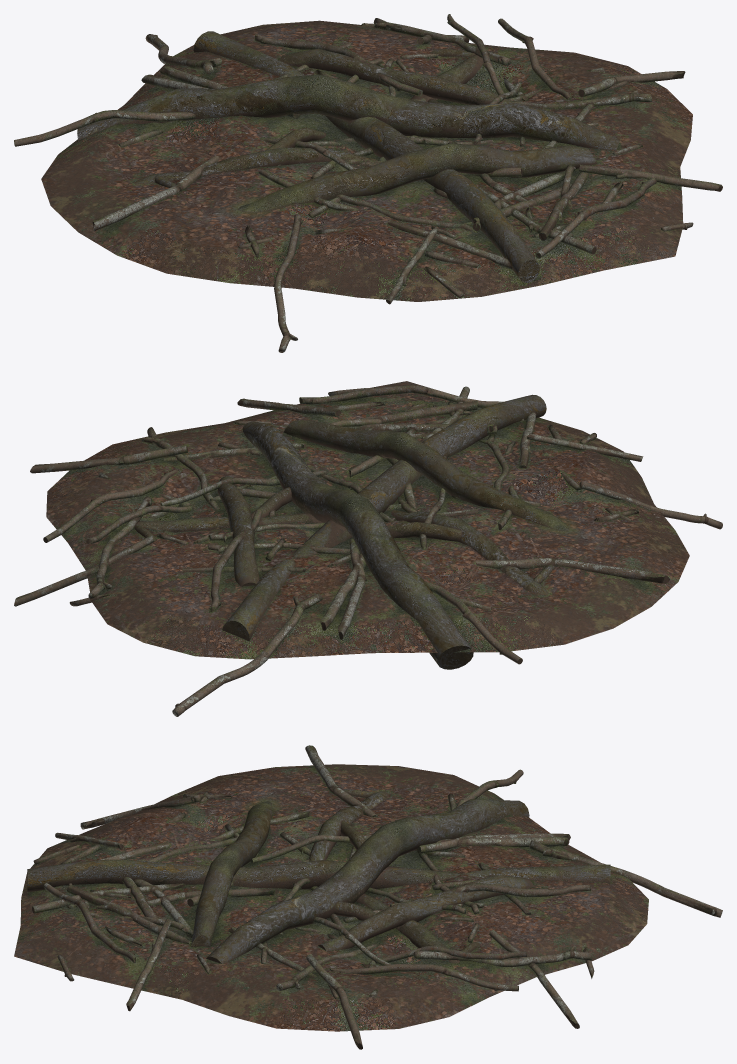
The model's file is SM_BranchEmbankment.fbx.
3 renders of one model, top to bottom at view 1: azimuth 30°, elevation 25°; view 2: azimuth 150°, elevation 25°; view 3: azimuth 270°, elevation 25°, orthographic. The views are drawn at different scales.
Visible parts, largest first — view 1: SM_BranchEmbankment_LOD0; view 2: SM_BranchEmbankment_LOD0; view 3: SM_BranchEmbankment_LOD0.
Part boxes in pixels (bbox=[...]): SM_BranchEmbankment_LOD0: bbox=[14, 14, 722, 352]; SM_BranchEmbankment_LOD0: bbox=[14, 381, 722, 716]; SM_BranchEmbankment_LOD0: bbox=[14, 745, 722, 1049].
Size of the model in its own units: 266 by 282 by 42.97.
